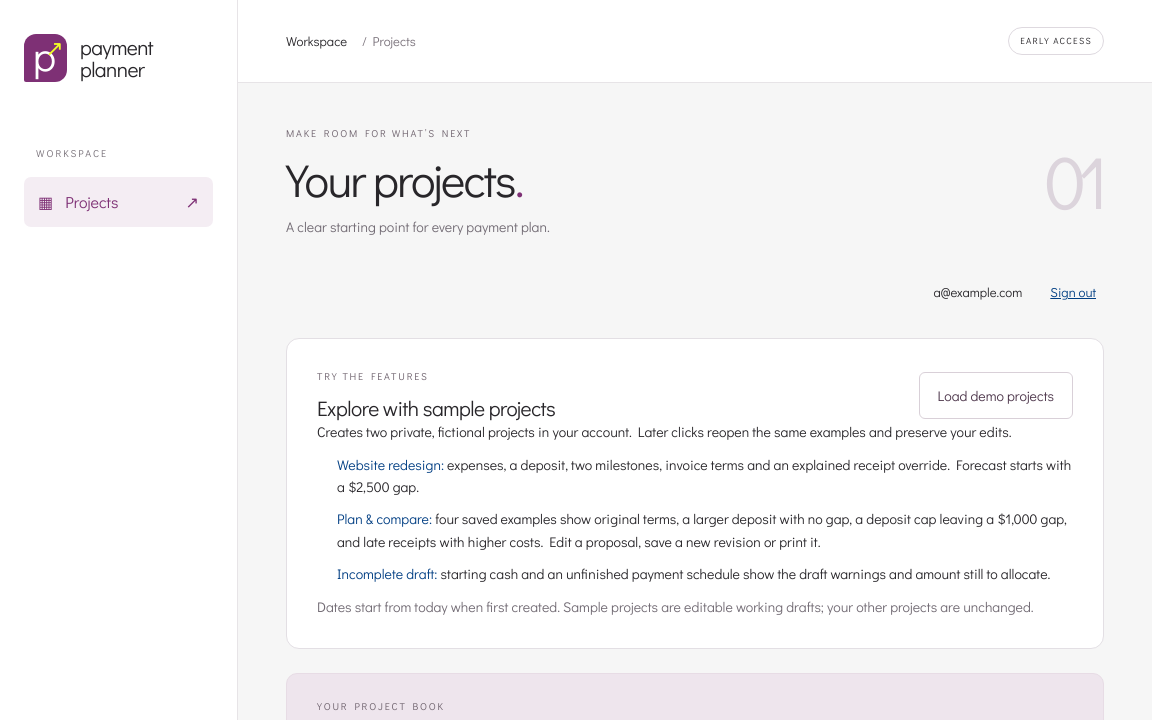
it: ignores a late demo response after the account changes
This screenshot has width=1152, height=720.
Click the button "Load demo projects" at (996, 395), box [918,372,1073,419]
(page scrolled)
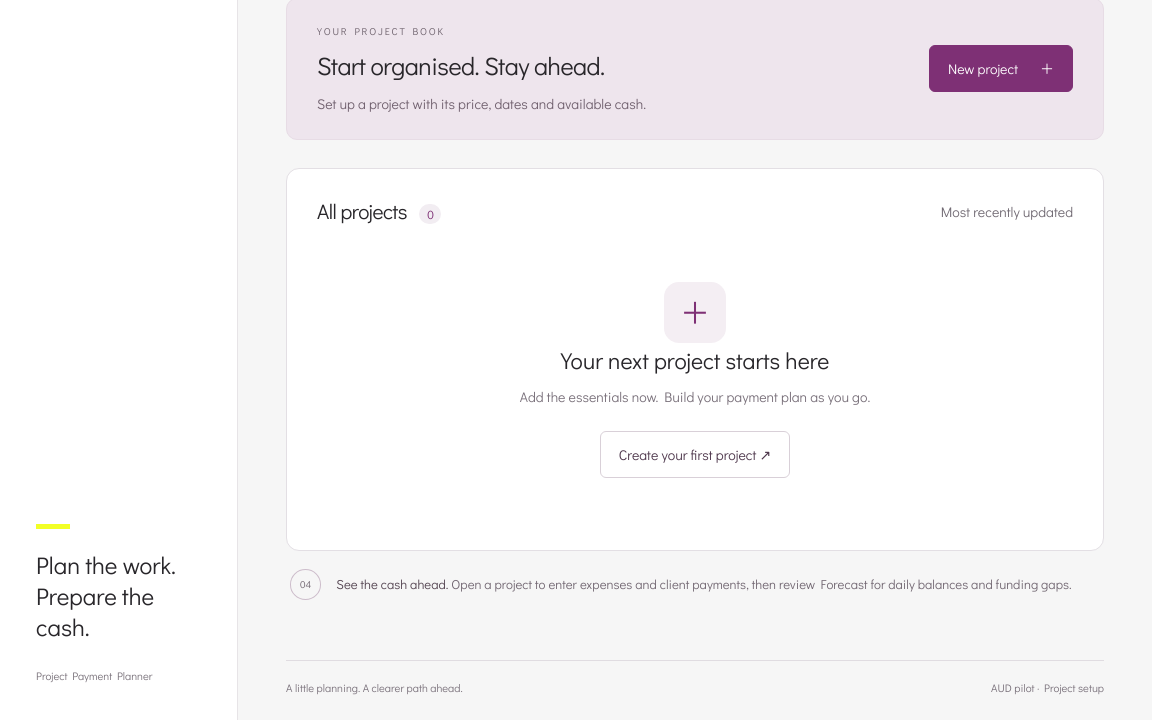
Expected: the heading "Your next project starts here" is shown, [561,345,829,375]
